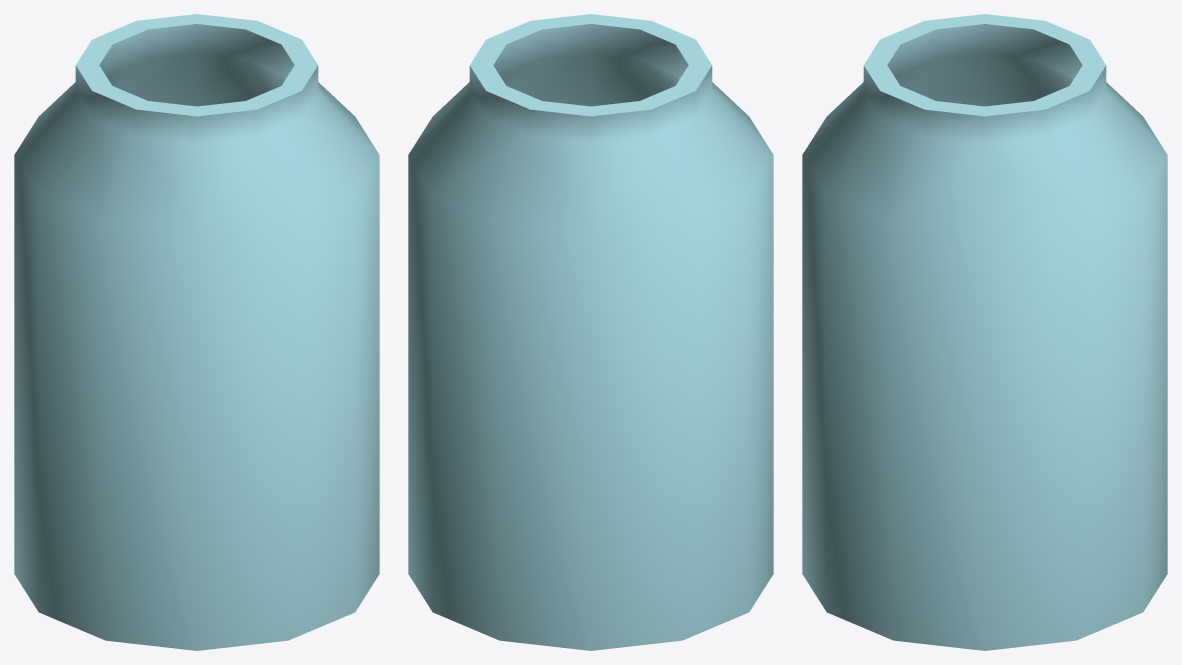
The model's file is JarFilled2.fbx.
3 views of the same model, side by side, from view 1: azimuth 30°, elevation 25°; view 2: azimuth 150°, elevation 25°; view 3: azimuth 270°, elevation 25° (orthographic).
Parts seen in each view (by area): view 1: JarFilled2; view 2: JarFilled2; view 3: JarFilled2.
Boxes of the visible parts, <box> form: JarFilled2: <box>14,14,379,650</box>; JarFilled2: <box>408,14,773,650</box>; JarFilled2: <box>802,14,1167,650</box>.
Bounding box in the file's own units: 10.56 × 16.2 × 10.56.
